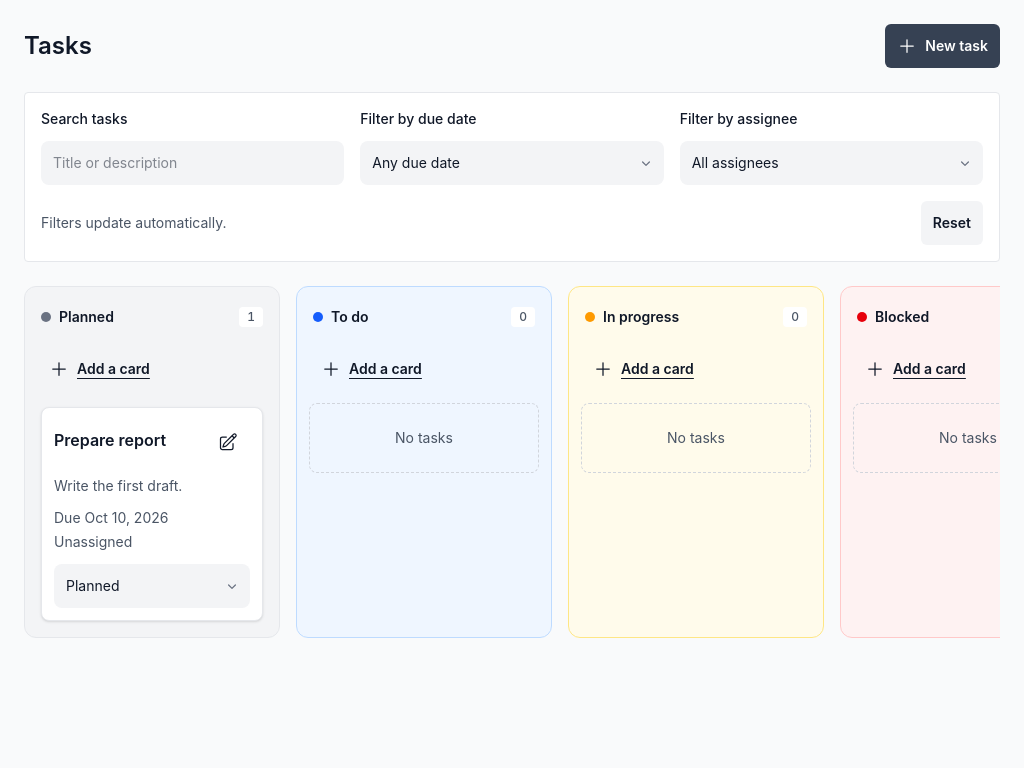
Test: deletes a task after confirmation
Click the button named "Edit Prepare report" at (228, 442), box [206,420,250,464]
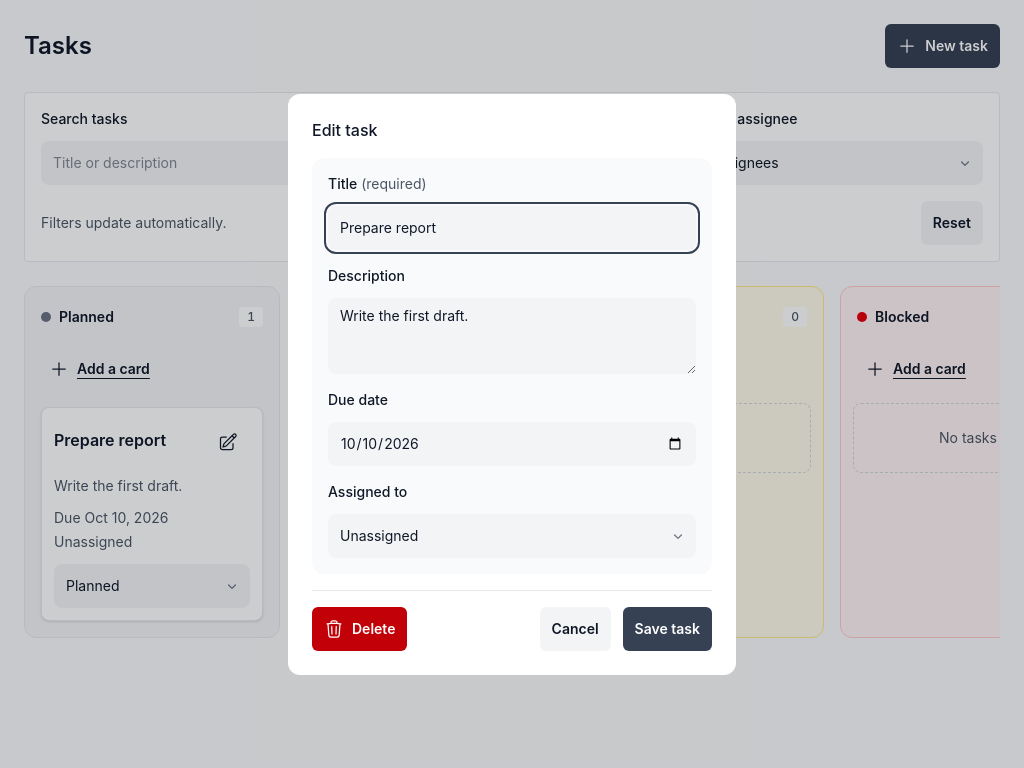
Click the button "Delete" at (360, 628), box [312,606,407,650]
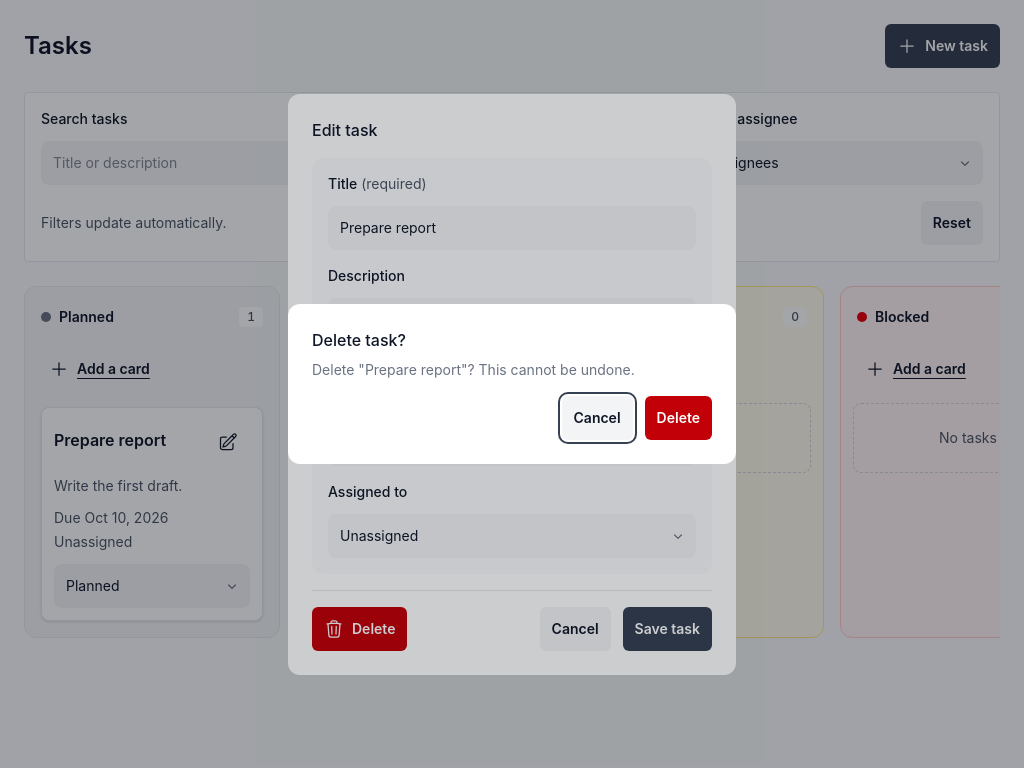
Click the button "Delete" at (678, 418), box [645,396,712,440]
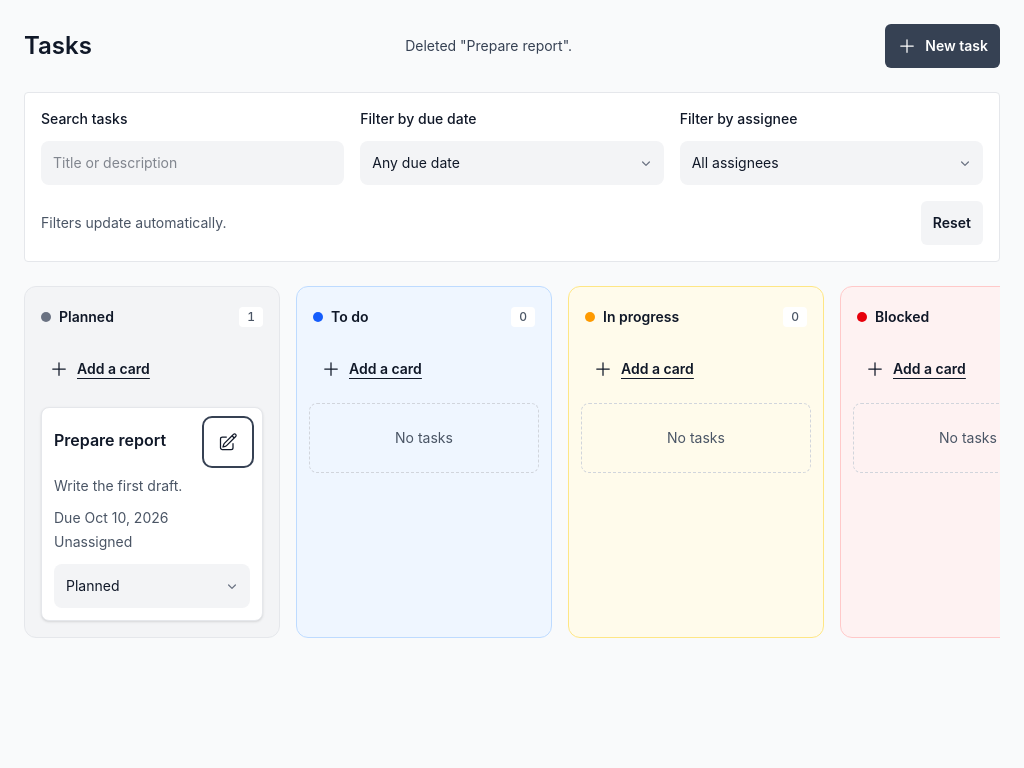
Check: the text "Deleted \"Prepare report\"." is shown, box [405,36,572,56]
